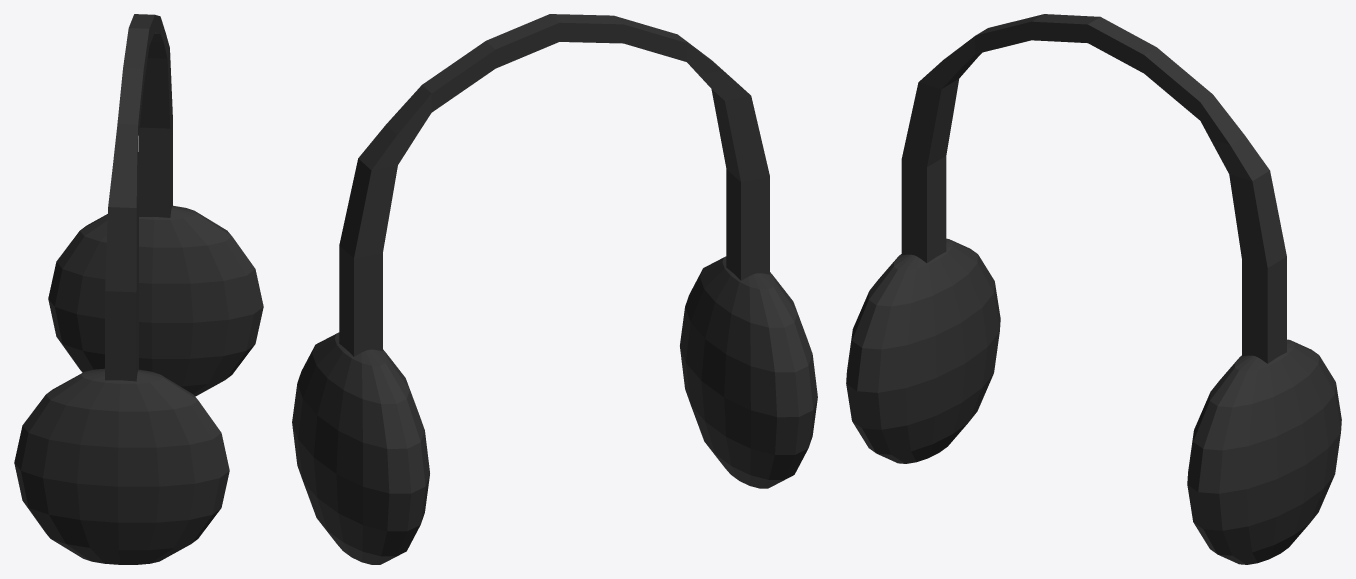
The model's file is headphones--1.gltf.
The picture shows the model from 3 angles, left to right: view 1: azimuth 30°, elevation 25°; view 2: azimuth 150°, elevation 25°; view 3: azimuth 270°, elevation 25°; orthographic projection. The views are drawn at different scales.
Parts seen in each view (by area): view 1: Headphones; view 2: Headphones; view 3: Headphones.
Boxes of the visible parts, bbox=[...] form: Headphones: bbox=[14, 14, 263, 564]; Headphones: bbox=[292, 14, 817, 564]; Headphones: bbox=[846, 14, 1341, 564].
Size of the model in its own units: 0.181 by 0.2224 by 0.2056.
Materials: 1 (1 with a texture image).
